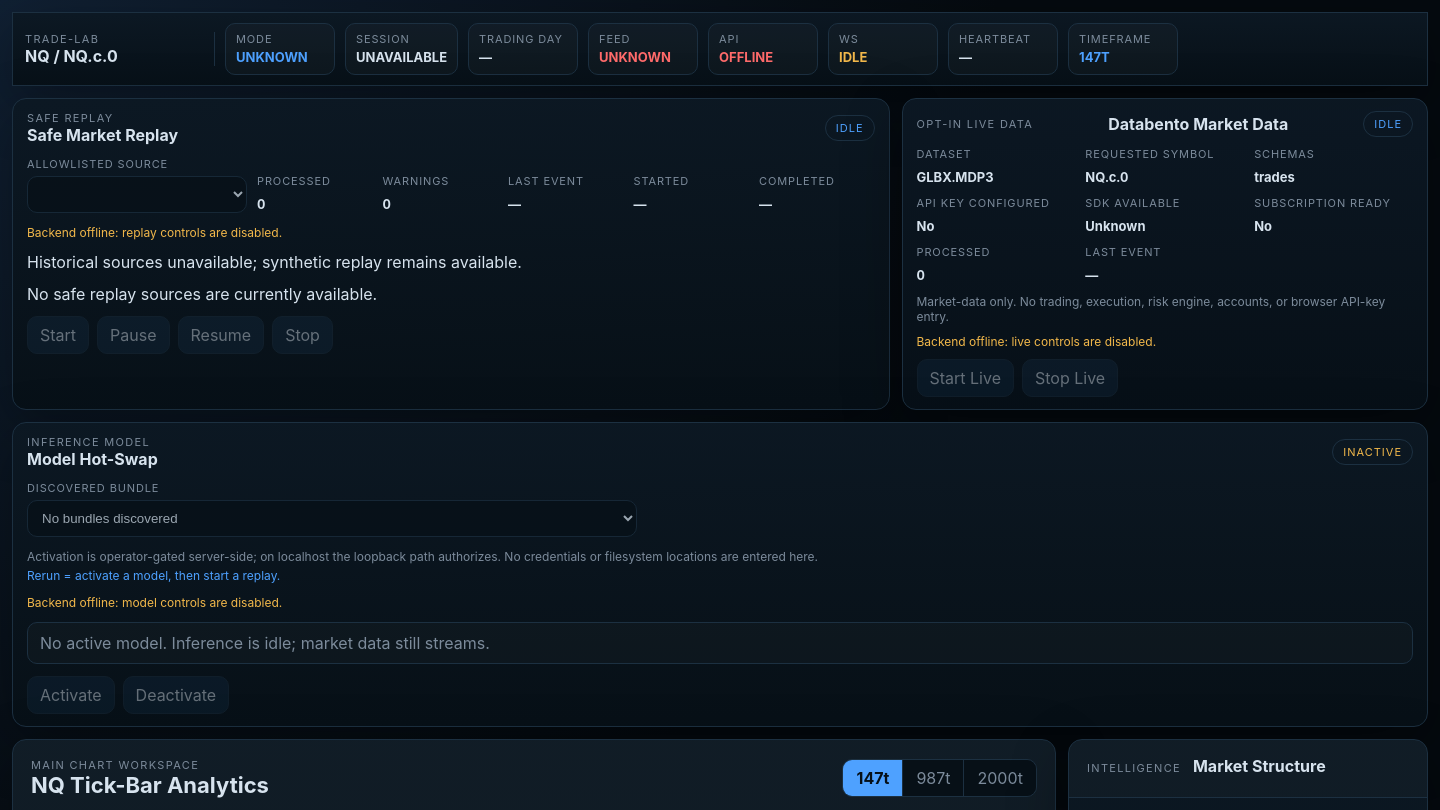
Scenario: App workstation UI › shows 147t, 987t, and 2000t timeframe choices and updates selected timeframe
Expected: the element named "Tick timeframe" shows "147t", [842,758,1037,796]
Expected: the element named "Tick timeframe" shows "987t", [842,758,1037,796]
Click the button "987t".
click(934, 778)  # box [903,760,964,796]
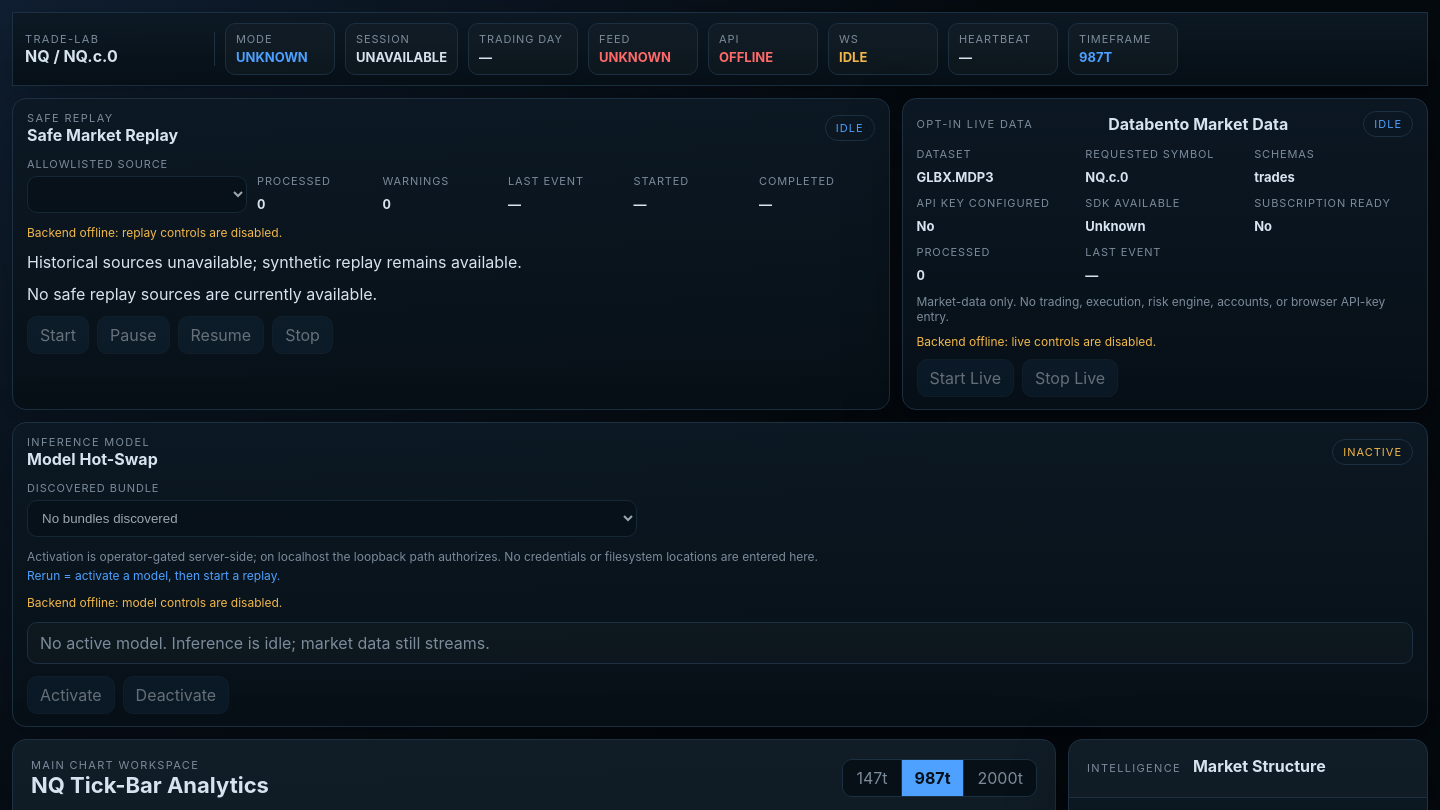
Expected: the text "Timeframe" shows "987t", [1079,49,1112,65]
